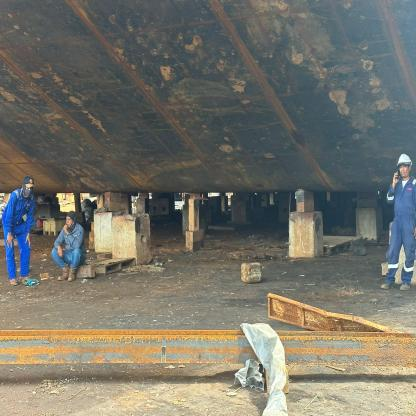bota: (56, 266, 69, 280), (67, 266, 78, 282), (380, 280, 396, 289), (399, 281, 410, 292), (18, 274, 31, 282), (8, 277, 18, 287)
